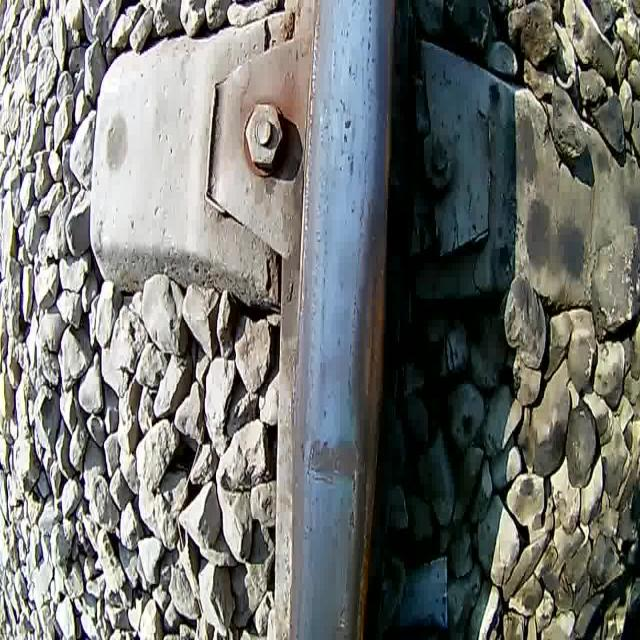Squats: (303, 433, 363, 491)
